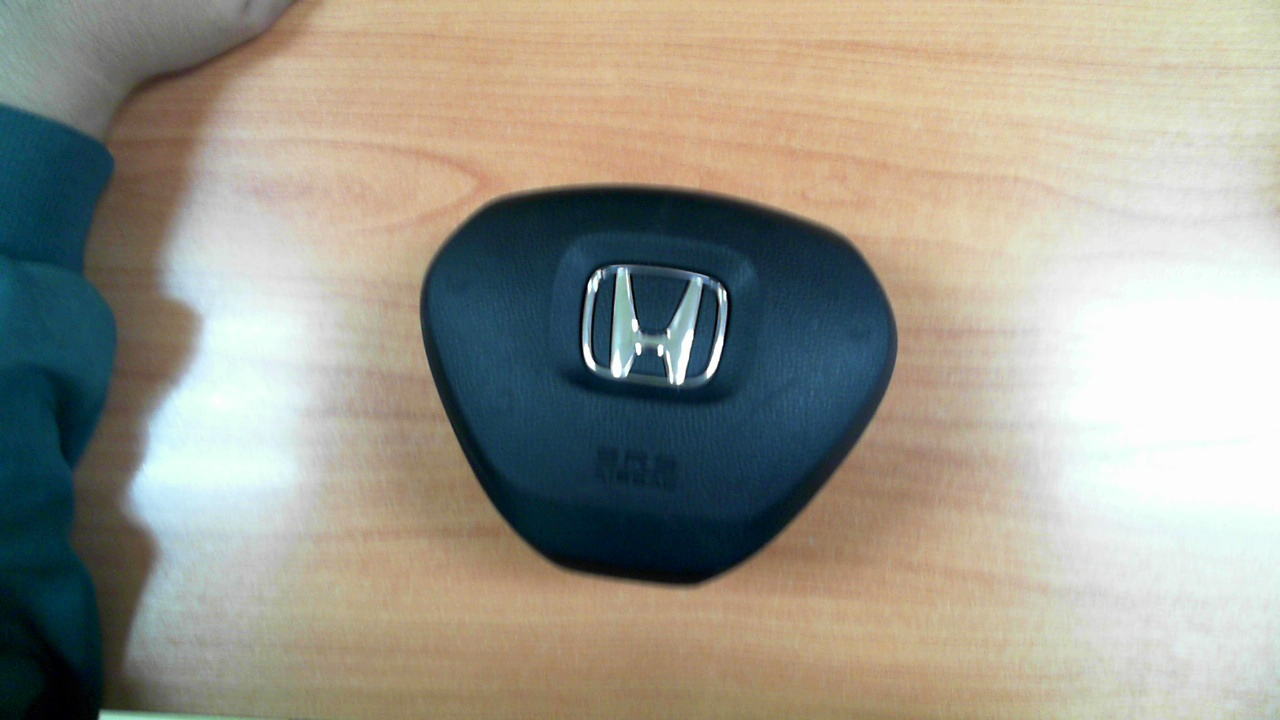Airbag: (420, 184, 899, 586)
Honda: (580, 264, 728, 386)
